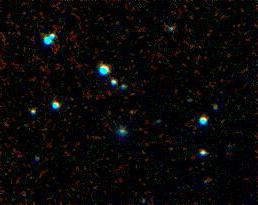star: (115, 98, 145, 128)
